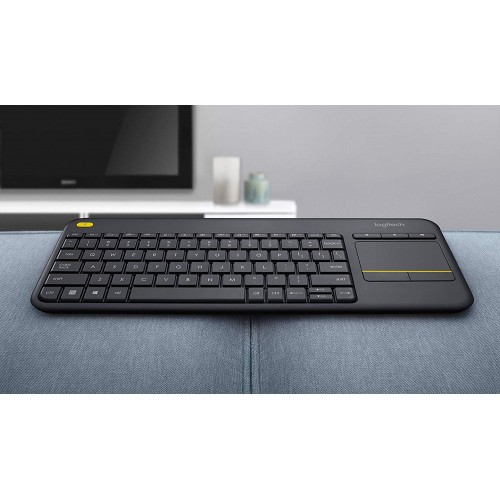logitech-keyboard-k400: (33, 214, 470, 313)
